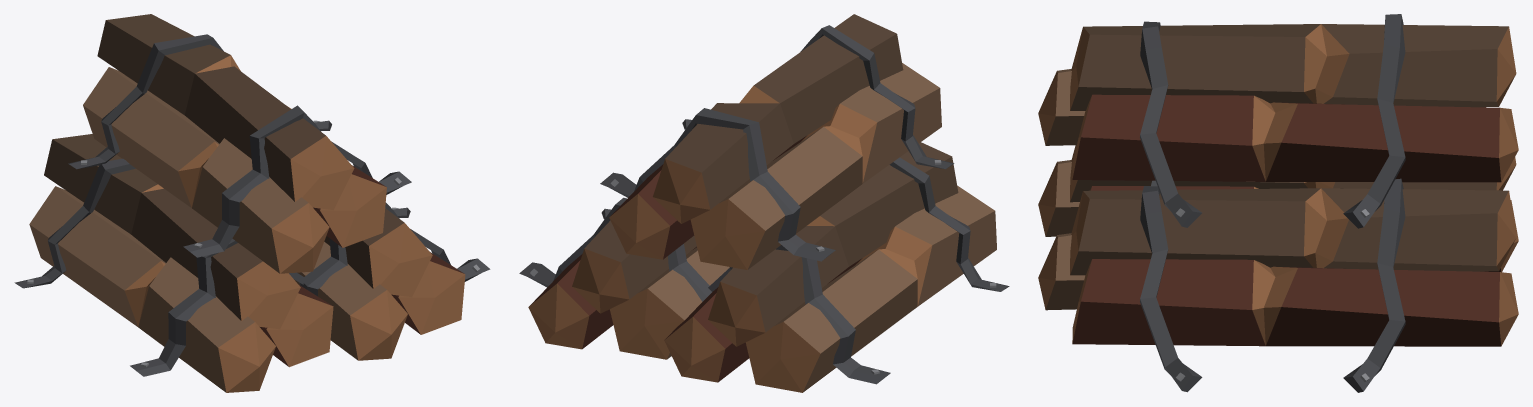
Rendered from SM_ENV_Woodstock.fbx.
The picture shows the model from 3 angles, left to right: view 1: azimuth 30°, elevation 25°; view 2: azimuth 150°, elevation 25°; view 3: azimuth 270°, elevation 25°; orthographic projection. The views are drawn at different scales.
Visible parts, largest first — view 1: SM_ENV_Woodstock; view 2: SM_ENV_Woodstock; view 3: SM_ENV_Woodstock.
Boxes of the visible parts, x1,y1,x2,y2 form: SM_ENV_Woodstock: (14, 14, 490, 392); SM_ENV_Woodstock: (519, 14, 1009, 392); SM_ENV_Woodstock: (1038, 14, 1518, 392).
Size of the model in its own units: 241 by 140 by 235.
